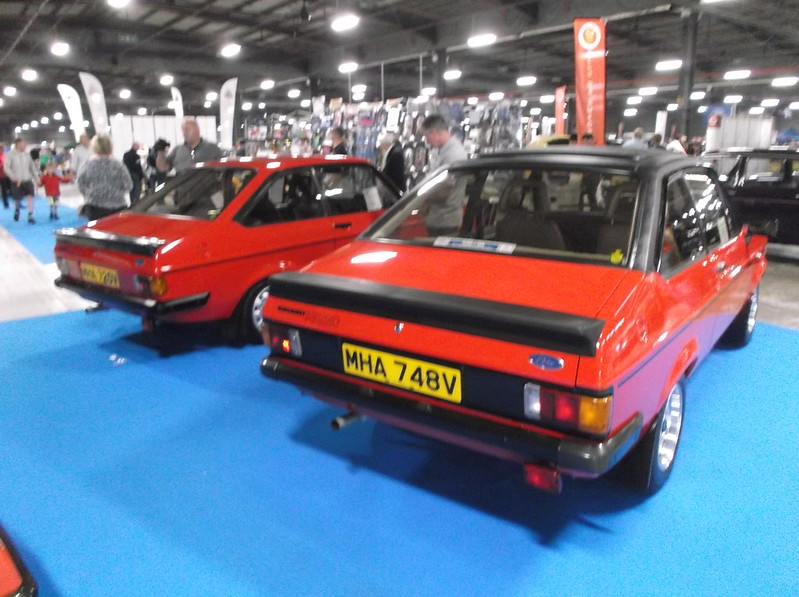number_plate: (323, 339, 502, 414), (65, 256, 132, 302)
